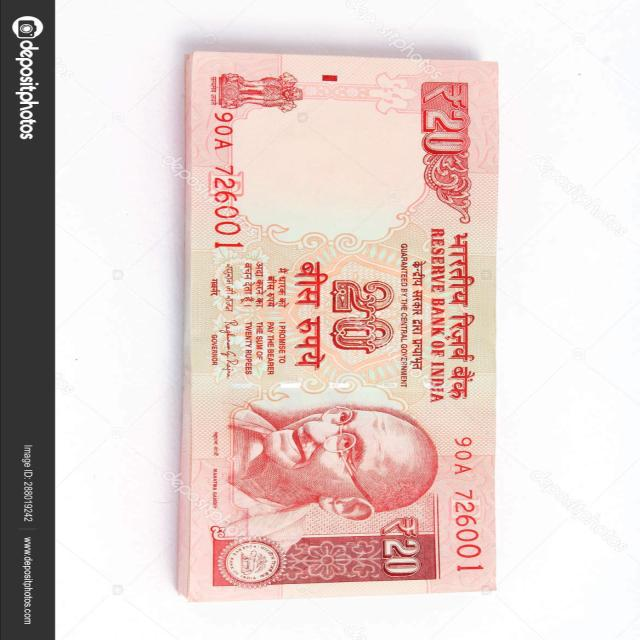20IndianRupees: (186, 56, 499, 596)
